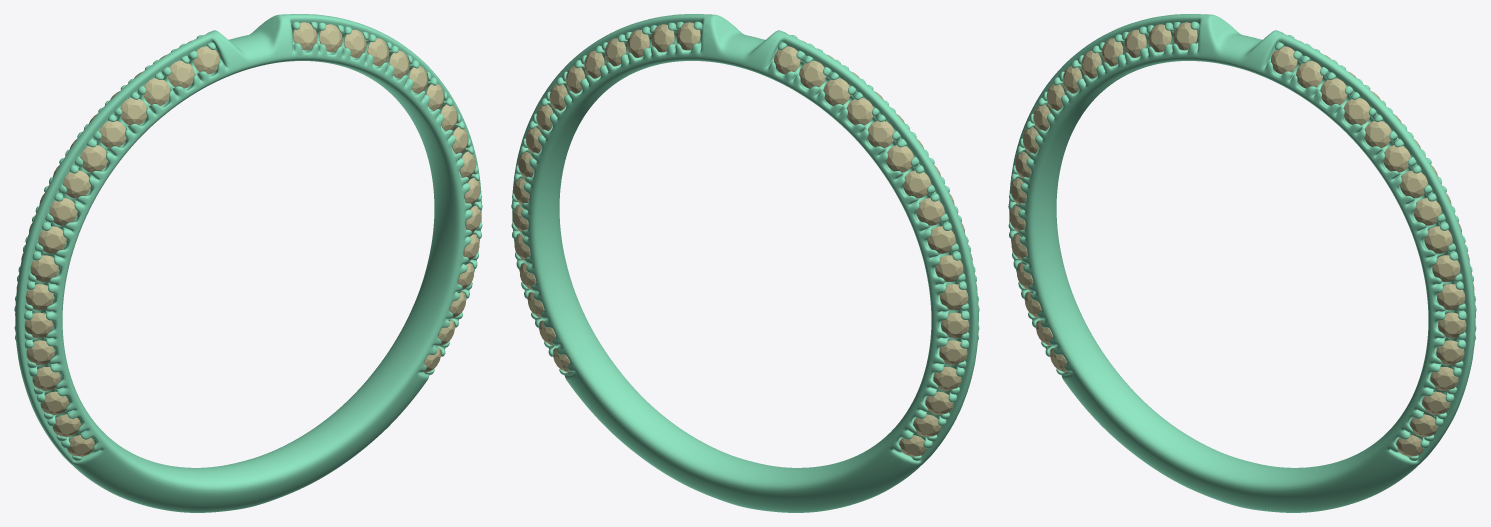
3 views of the same model, side by side, from view 1: azimuth 30°, elevation 25°; view 2: azimuth 150°, elevation 25°; view 3: azimuth 330°, elevation 25° (orthographic).
Parts seen in each view (by area): view 1: Metal02, Diamond_Gem.004, Diamond_Gem.003, Diamond_Gem.006, Diamond_Gem.005, Diamond_Gem.007, Diamond_Gem.002, Diamond_Gem.008, Diamond_Gem.001, Diamond_Gem.009, Diamond_Gem.010, Diamond_Gem (+2 smaller); view 2: Metal02, Diamond_Gem.063, Diamond_Gem.064, Diamond_Gem.062, Diamond_Gem.061, Diamond_Gem.065, Diamond_Gem.060, Diamond_Gem.066, Diamond_Gem.059, Diamond_Gem.058, Diamond_Gem.067, Diamond_Gem.057 (+2 smaller); view 3: Metal02, Diamond_Gem.030, Diamond_Gem.029, Diamond_Gem.028, Diamond_Gem.027, Diamond_Gem.026, Diamond_Gem.031, Diamond_Gem.032, Diamond_Gem.025, Diamond_Gem.024, Diamond_Gem.023, Diamond_Gem.033 (+2 smaller).
Part boxes in pixels (x1,y1,x2,y2): Metal02: (14, 14, 482, 512); Diamond_Gem.004: (99, 121, 126, 148); Diamond_Gem.003: (120, 98, 147, 125); Diamond_Gem.006: (63, 170, 90, 198); Diamond_Gem.005: (80, 145, 107, 172); Diamond_Gem.007: (49, 198, 77, 225); Diamond_Gem.002: (143, 78, 170, 105); Diamond_Gem.008: (38, 226, 66, 253); Diamond_Gem.001: (168, 60, 194, 88); Diamond_Gem.009: (30, 255, 58, 281); Diamond_Gem.010: (25, 284, 53, 310); Diamond_Gem: (193, 46, 219, 74); Metal02: (511, 14, 979, 512); Diamond_Gem.063: (867, 121, 894, 148); Diamond_Gem.064: (846, 98, 873, 125); Diamond_Gem.062: (886, 145, 913, 172); Diamond_Gem.061: (903, 170, 930, 198); Diamond_Gem.065: (823, 78, 850, 105); Diamond_Gem.060: (916, 198, 944, 225); Diamond_Gem.066: (799, 60, 825, 88); Diamond_Gem.059: (927, 226, 955, 253); Diamond_Gem.058: (935, 255, 963, 281); Diamond_Gem.067: (774, 46, 800, 74); Diamond_Gem.057: (940, 284, 968, 310); Metal02: (1008, 14, 1476, 512); Diamond_Gem.030: (1343, 98, 1370, 125); Diamond_Gem.029: (1364, 121, 1391, 148); Diamond_Gem.028: (1383, 145, 1410, 172); Diamond_Gem.027: (1400, 170, 1427, 198); Diamond_Gem.026: (1413, 198, 1441, 225); Diamond_Gem.031: (1320, 78, 1347, 105); Diamond_Gem.032: (1296, 60, 1322, 88); Diamond_Gem.025: (1424, 226, 1452, 253); Diamond_Gem.024: (1432, 255, 1460, 281); Diamond_Gem.023: (1437, 284, 1465, 310); Diamond_Gem.033: (1271, 46, 1297, 74).
Size of the model in its own units: 20.91 by 20.75 by 2.
